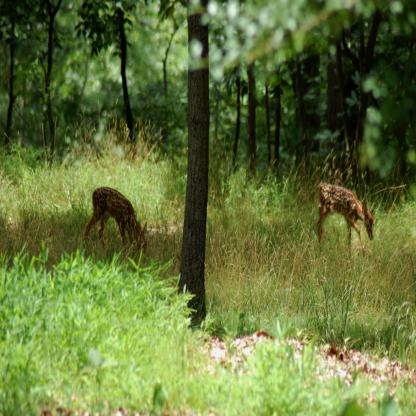Deer: (82, 183, 146, 261), (314, 179, 375, 255)
